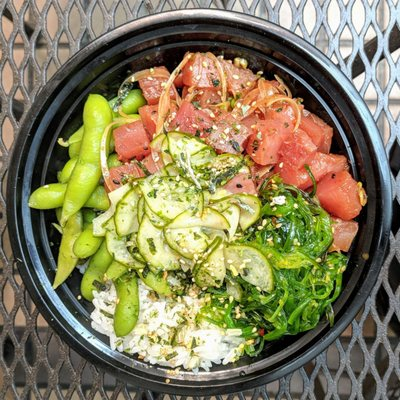sushi: (1, 9, 346, 396)
